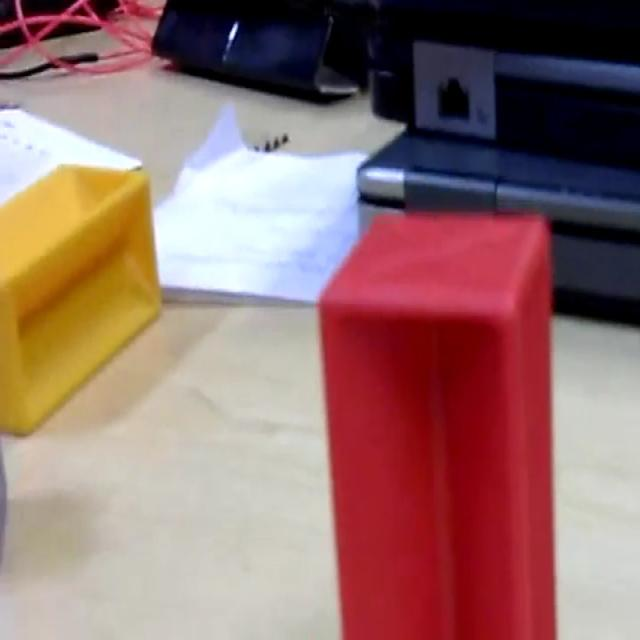red_block: (316, 208, 557, 636)
yellow_block: (0, 160, 161, 436)
